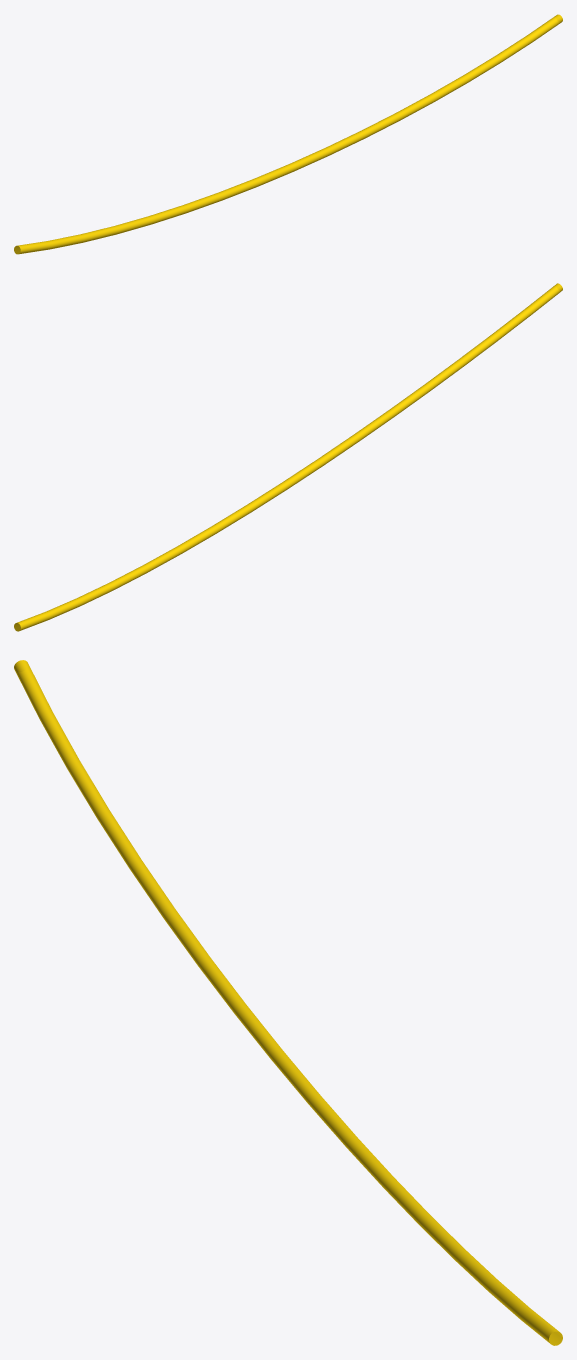
File: Event_421278790_track_57.fbx
3 renders of one model, top to bottom at view 1: azimuth 30°, elevation 25°; view 2: azimuth 210°, elevation 25°; view 3: azimuth 270°, elevation 25°, orthographic. The views are drawn at different scales.
Visible parts, largest first — view 1: Model; view 2: Model; view 3: Model.
Part boxes in pixels (bbox=[...]): Model: bbox=[14, 14, 562, 254]; Model: bbox=[14, 283, 562, 631]; Model: bbox=[14, 660, 562, 1345].
Bounding box in the file's own units: 3.65 × 0.3631 × 1.45.
